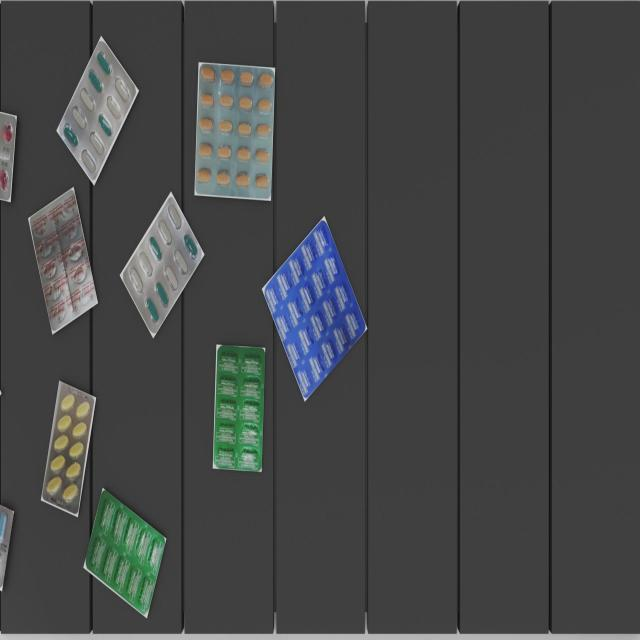blister: (262, 216, 367, 399), (120, 192, 203, 337), (195, 58, 276, 202), (59, 39, 134, 187), (84, 489, 166, 611), (30, 189, 98, 332), (40, 380, 96, 514), (213, 343, 265, 471)
